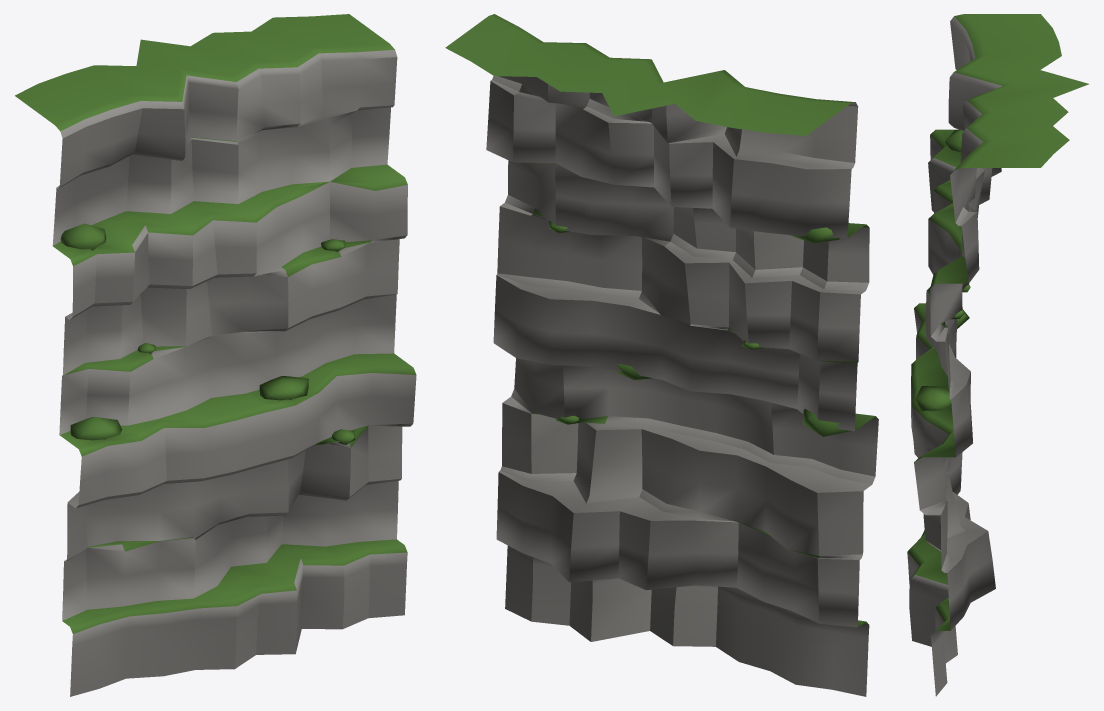
Rendered from cliff_straight_60_lod1.glb.
3 renders of one model, left to right at view 1: azimuth 30°, elevation 25°; view 2: azimuth 150°, elevation 25°; view 3: azimuth 270°, elevation 25°, orthographic. The views are drawn at different scales.
Parts seen in each view (by area): view 1: cliff_straight_60_lod1; view 2: cliff_straight_60_lod1; view 3: cliff_straight_60_lod1.
Boxes of the visible parts, left/top/right/bottom form: cliff_straight_60_lod1: left=15, top=14, right=416, bottom=696; cliff_straight_60_lod1: left=445, top=14, right=878, bottom=696; cliff_straight_60_lod1: left=907, top=14, right=1088, bottom=696.
Size of the model in its own units: 40 by 64 by 20.01.
